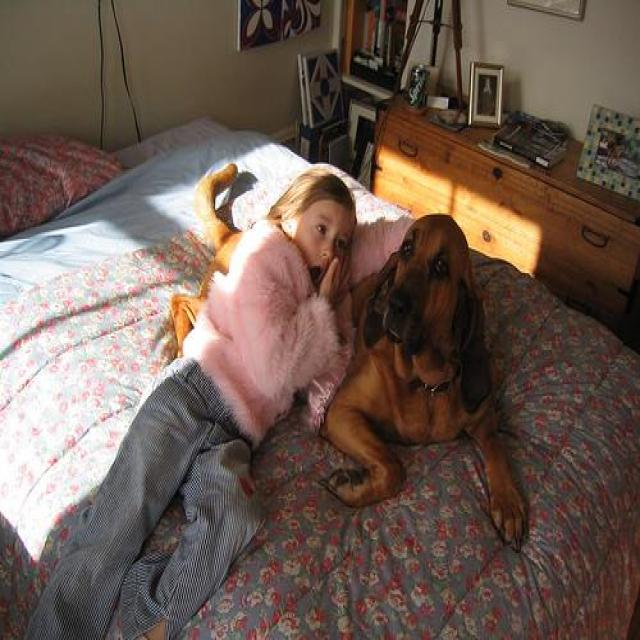bloodhound: (148, 157, 532, 555)
